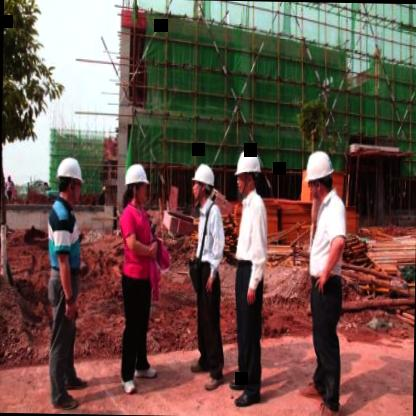helmet: (301, 148, 336, 206), (53, 152, 84, 206), (232, 147, 263, 200), (121, 158, 150, 208), (190, 162, 214, 204)
